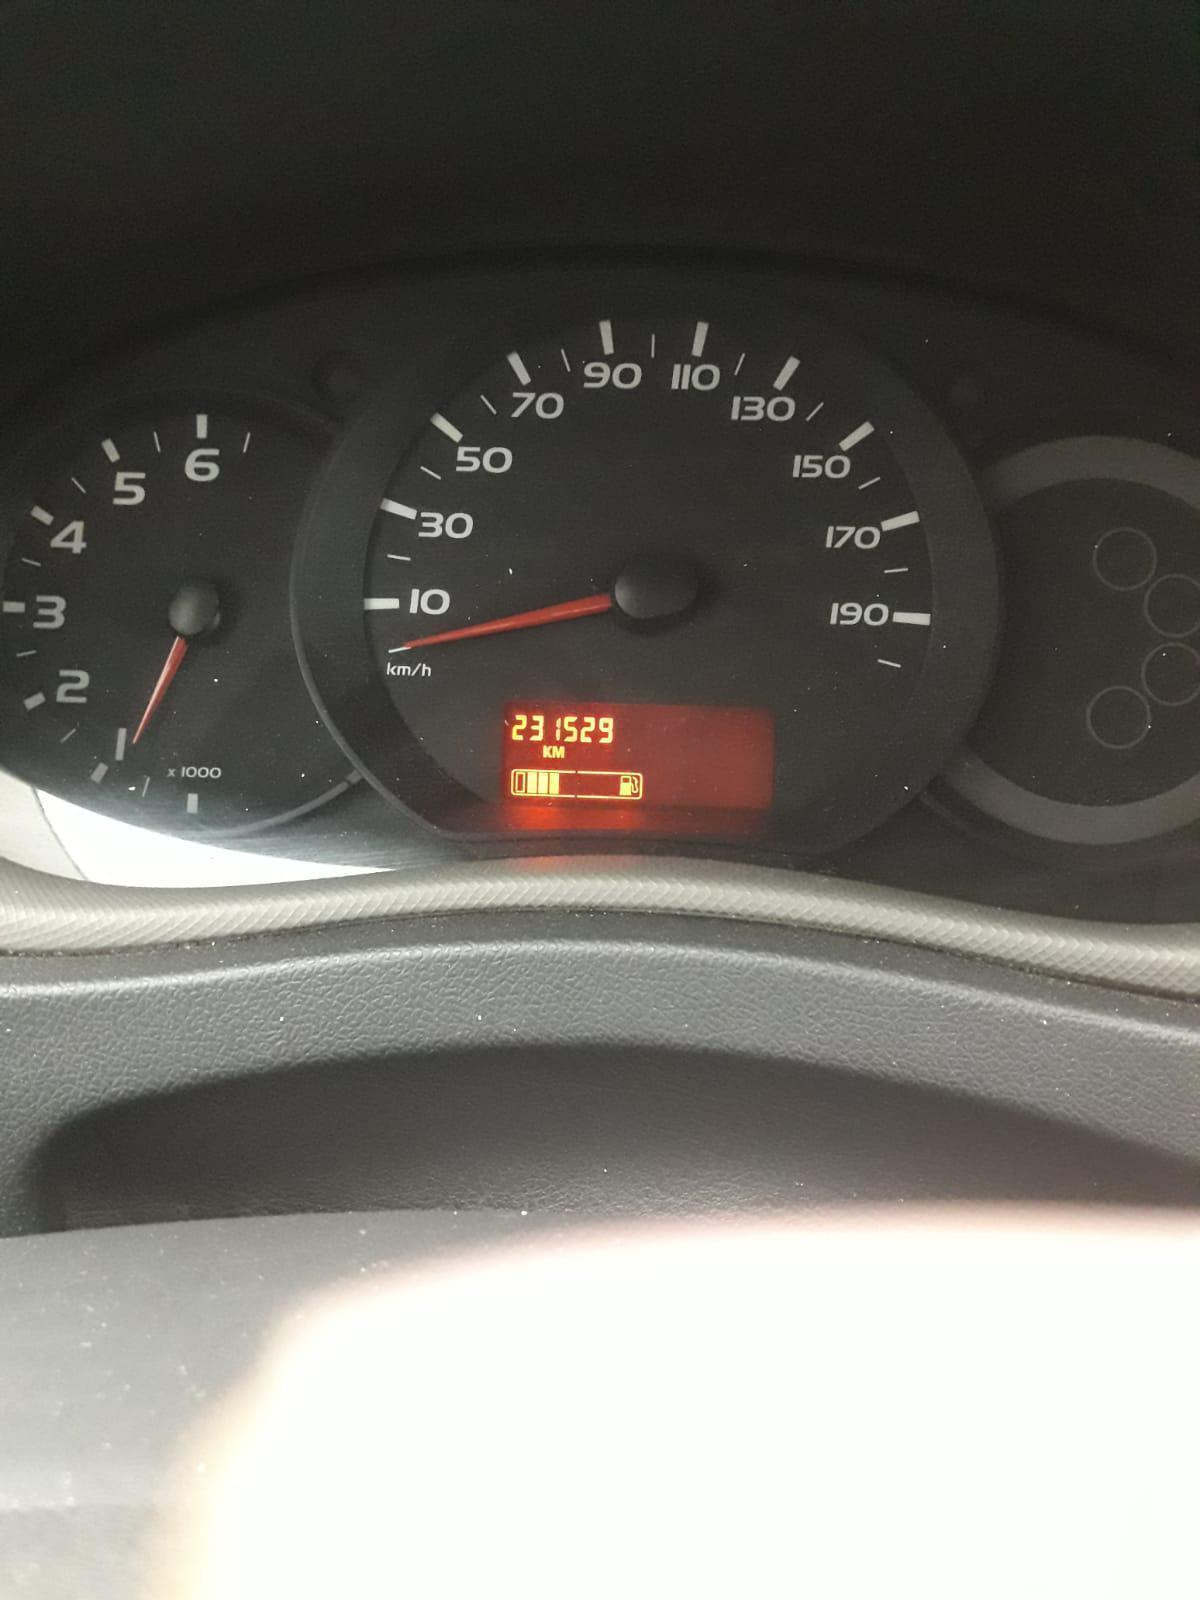1: (552, 716, 562, 742)
2: (509, 712, 527, 742), (579, 714, 596, 743)
3: (529, 712, 545, 742)
5: (563, 714, 579, 742)
9: (597, 716, 614, 745)
X: (552, 745, 565, 758), (541, 743, 551, 758)
odometer: (492, 695, 784, 821)
